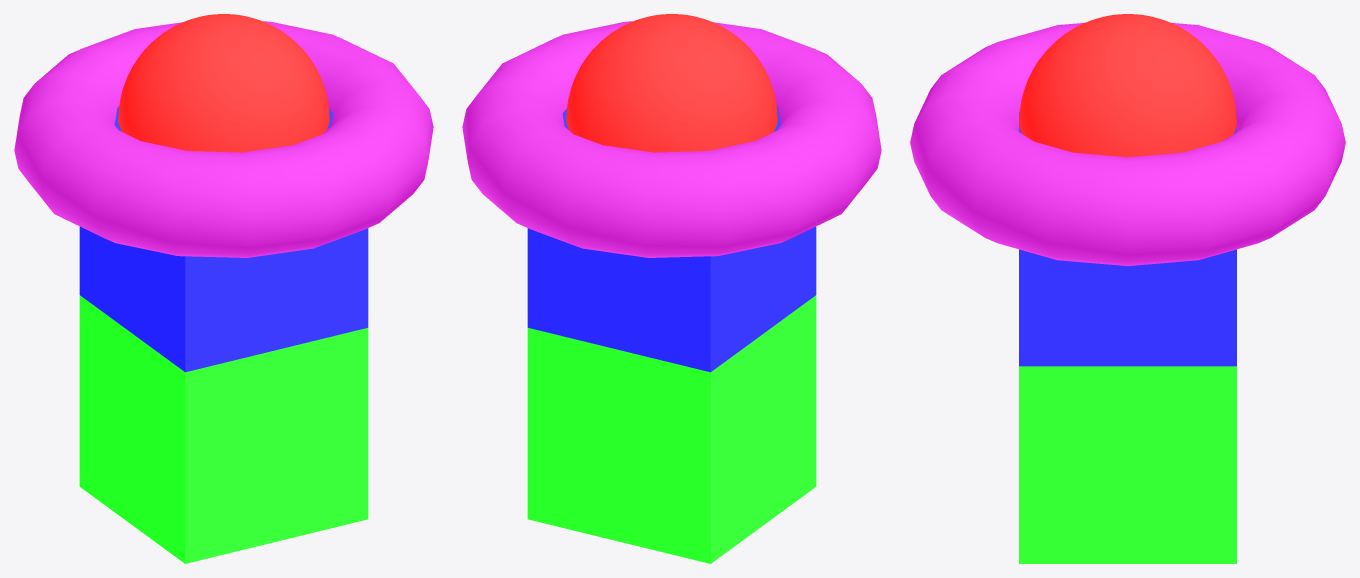
Rendered from skyscraper.glb.
3 renders of one model, left to right at view 1: azimuth 30°, elevation 25°; view 2: azimuth 150°, elevation 25°; view 3: azimuth 270°, elevation 25°, orthographic. The views are drawn at different scales.
Parts seen in each view (by area): view 1: skydeck, lowerFloor, upper floor, penthouse; view 2: skydeck, lowerFloor, upper floor, penthouse; view 3: skydeck, lowerFloor, penthouse, upper floor.
Boxes of the visible parts, box(x1,y1,x2,y2) form: skydeck: box(14, 21, 433, 257); lowerFloor: box(79, 295, 368, 563); upper floor: box(79, 106, 368, 372); penthouse: box(118, 14, 329, 152); skydeck: box(462, 21, 881, 257); lowerFloor: box(527, 295, 816, 563); upper floor: box(527, 106, 816, 372); penthouse: box(566, 14, 777, 152); skydeck: box(910, 22, 1345, 265); lowerFloor: box(1019, 366, 1236, 563); penthouse: box(1019, 14, 1236, 157); upper floor: box(1019, 112, 1236, 366).
Bounding box in the file's own units: 40 × 50 × 40.
